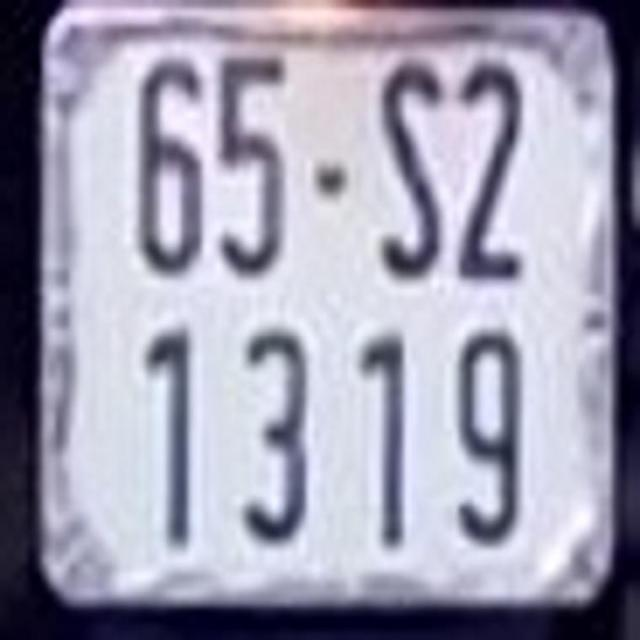1: (349, 335, 427, 554), (140, 322, 200, 551)
2: (459, 65, 536, 274)
3: (237, 329, 315, 538)
5: (217, 54, 290, 278)
6: (136, 60, 212, 276)
9: (458, 330, 521, 540)
S: (380, 58, 446, 276)
